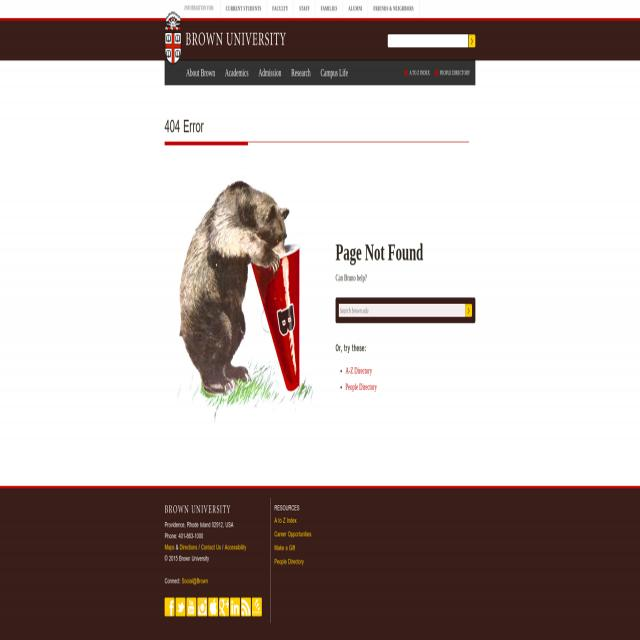button: (165, 175, 317, 423), (164, 18, 290, 61), (183, 61, 218, 86), (368, 0, 419, 17), (318, 60, 352, 84), (220, 0, 267, 16), (222, 60, 252, 85), (256, 60, 284, 85), (288, 60, 313, 85), (315, 0, 343, 18), (435, 66, 470, 80), (267, 0, 294, 18), (343, 0, 368, 18), (293, 0, 315, 17), (404, 66, 430, 80), (164, 598, 174, 616), (176, 598, 186, 616), (186, 598, 196, 616), (197, 598, 207, 616), (208, 598, 218, 616), (219, 598, 229, 616), (230, 598, 240, 616), (241, 598, 251, 616), (252, 598, 262, 616), (468, 34, 476, 48), (465, 304, 472, 317)
field: (339, 304, 465, 317), (388, 34, 468, 48)
